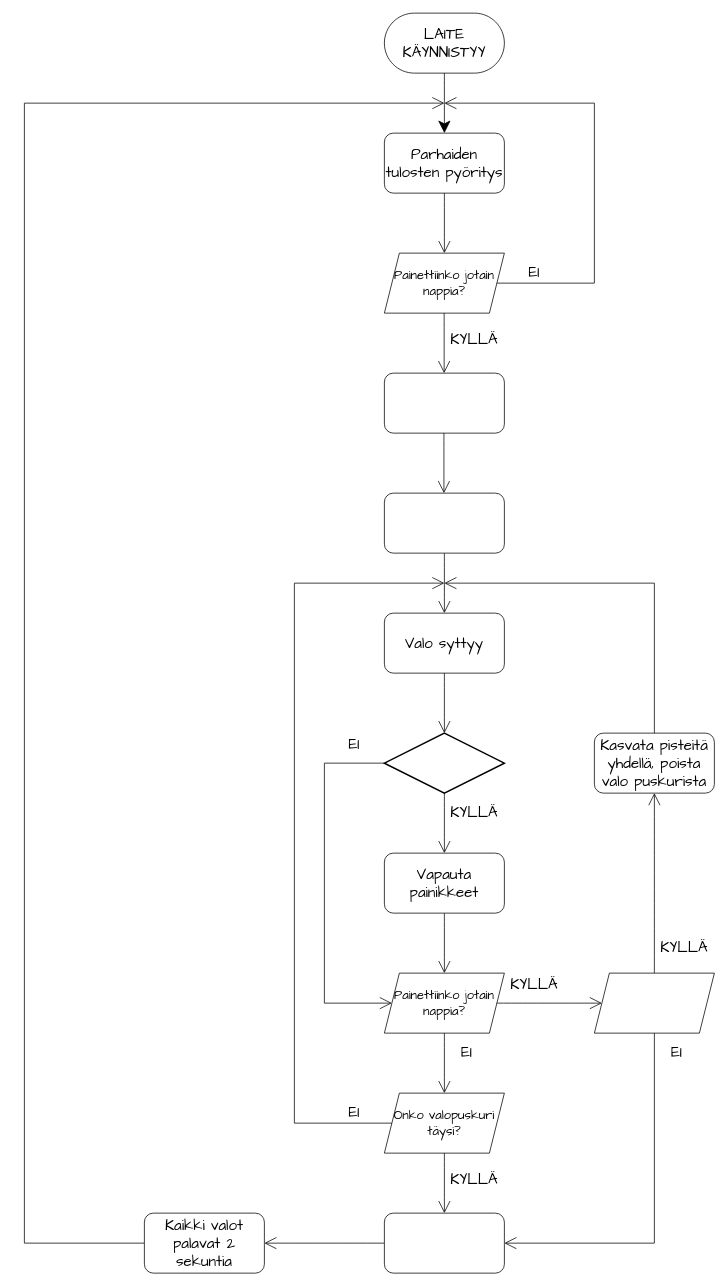
Some shapes in this 728 by 1286 pixel diagram are drawn without their labels. The shapes that lost their labels are listed below. From the top down, each one's box as (x1, y1, x2, y2) in pixels, then its label:
(384, 372, 504, 433): Peli alkaa
(384, 492, 504, 553): Estä nappien painaminen
(383, 732, 505, 794): Onko ensimmäinen valo?
(594, 972, 714, 1033): Oliko valoa vastaava nappi?
(384, 1212, 504, 1273): GAME OVER
